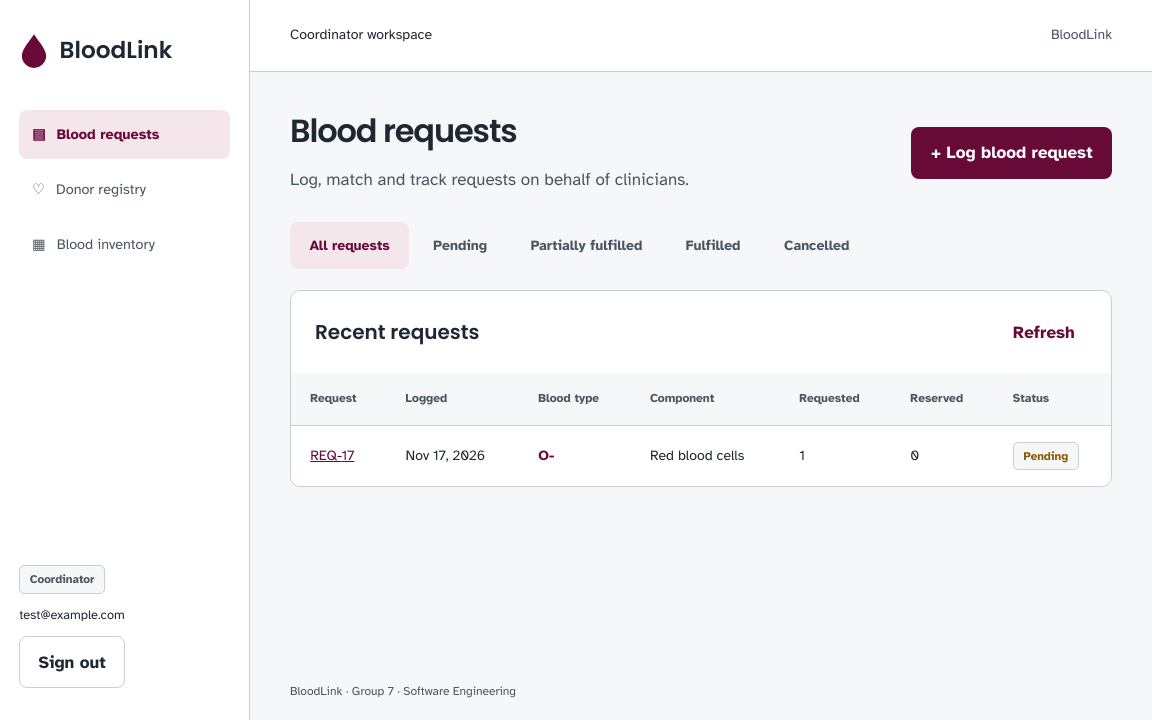
Test: coordinator can reload a populated requests page and filter it to empty
Check: the link "REQ-17" is shown, box left=310, top=447, right=354, bottom=464
Check: the cell "Nov 17, 2026" is shown, box left=386, top=425, right=519, bottom=486
Click the button "Fulfilled": {"x": 713, "y": 246} left=666, top=222, right=760, bottom=269
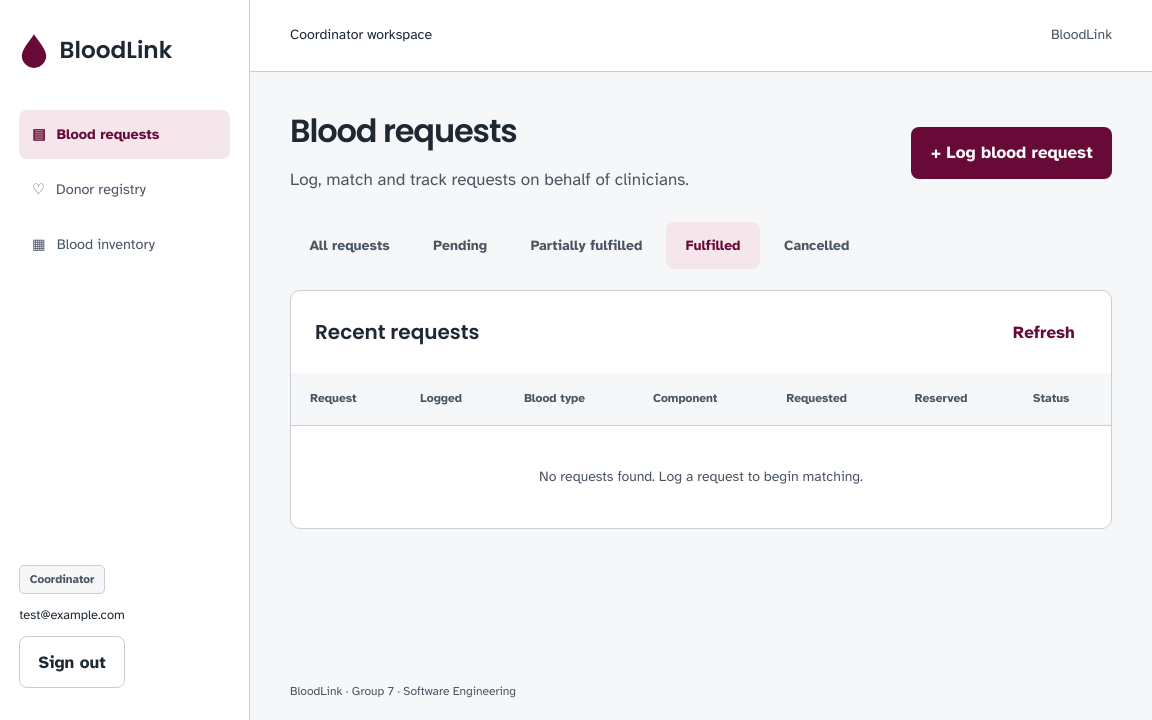
Check: the text "No requests found. Log a request to begin matching." is shown, box left=291, top=425, right=1111, bottom=528
Click the button "All requests": {"x": 350, "y": 246} left=290, top=222, right=409, bottom=269
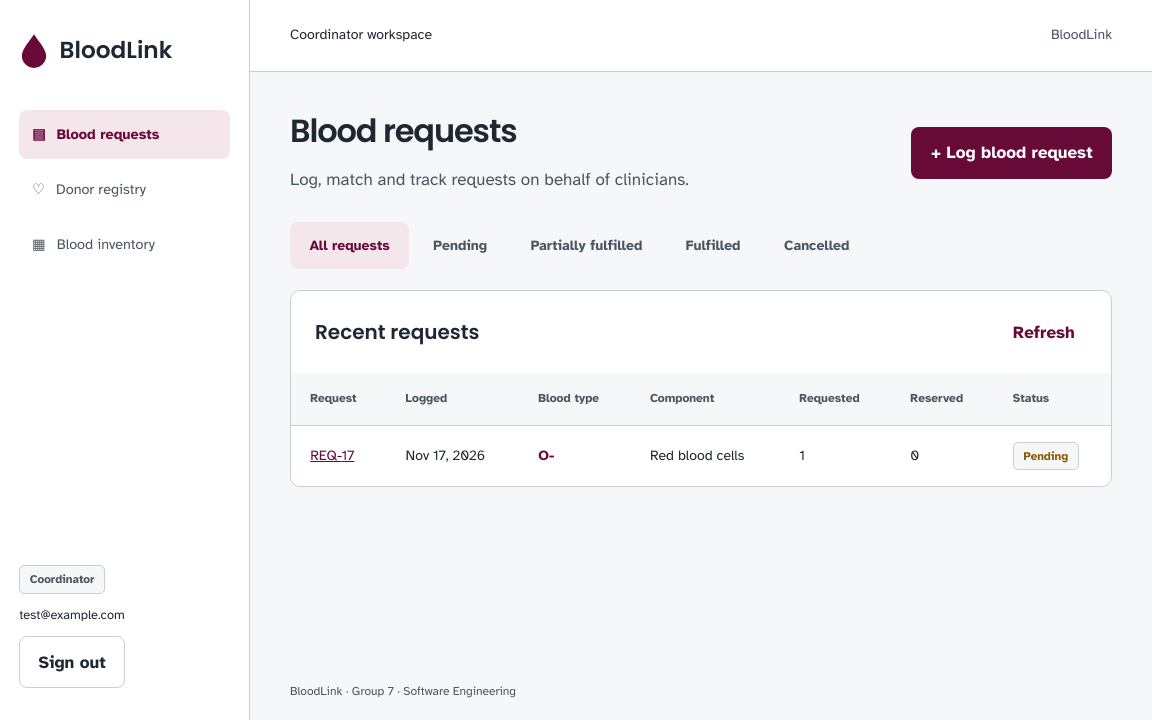
Check: the link "REQ-17" is shown, box left=310, top=447, right=354, bottom=464
